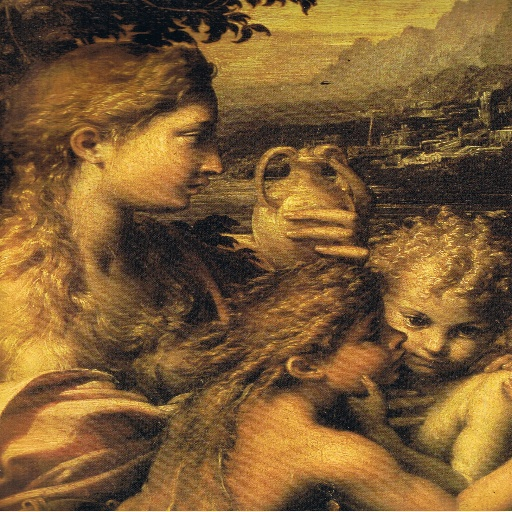hand: (281, 208, 373, 262), (334, 376, 385, 430), (463, 344, 511, 399), (381, 386, 432, 427)
